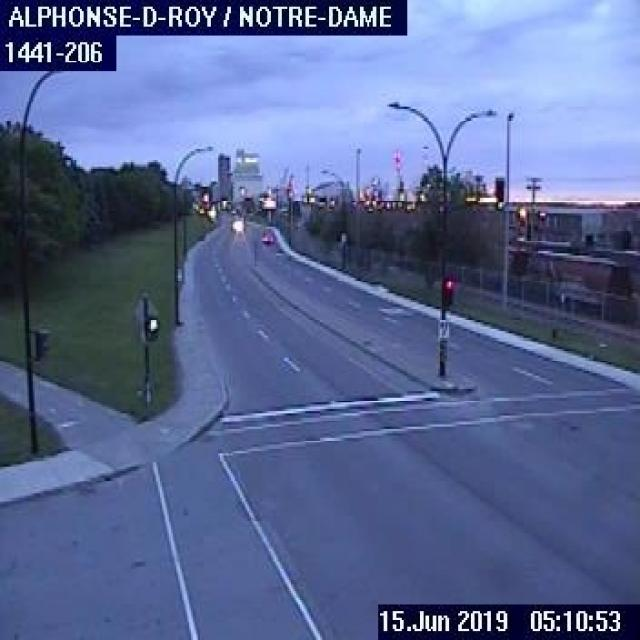vehicle: (259, 228, 274, 242), (228, 217, 242, 230)
